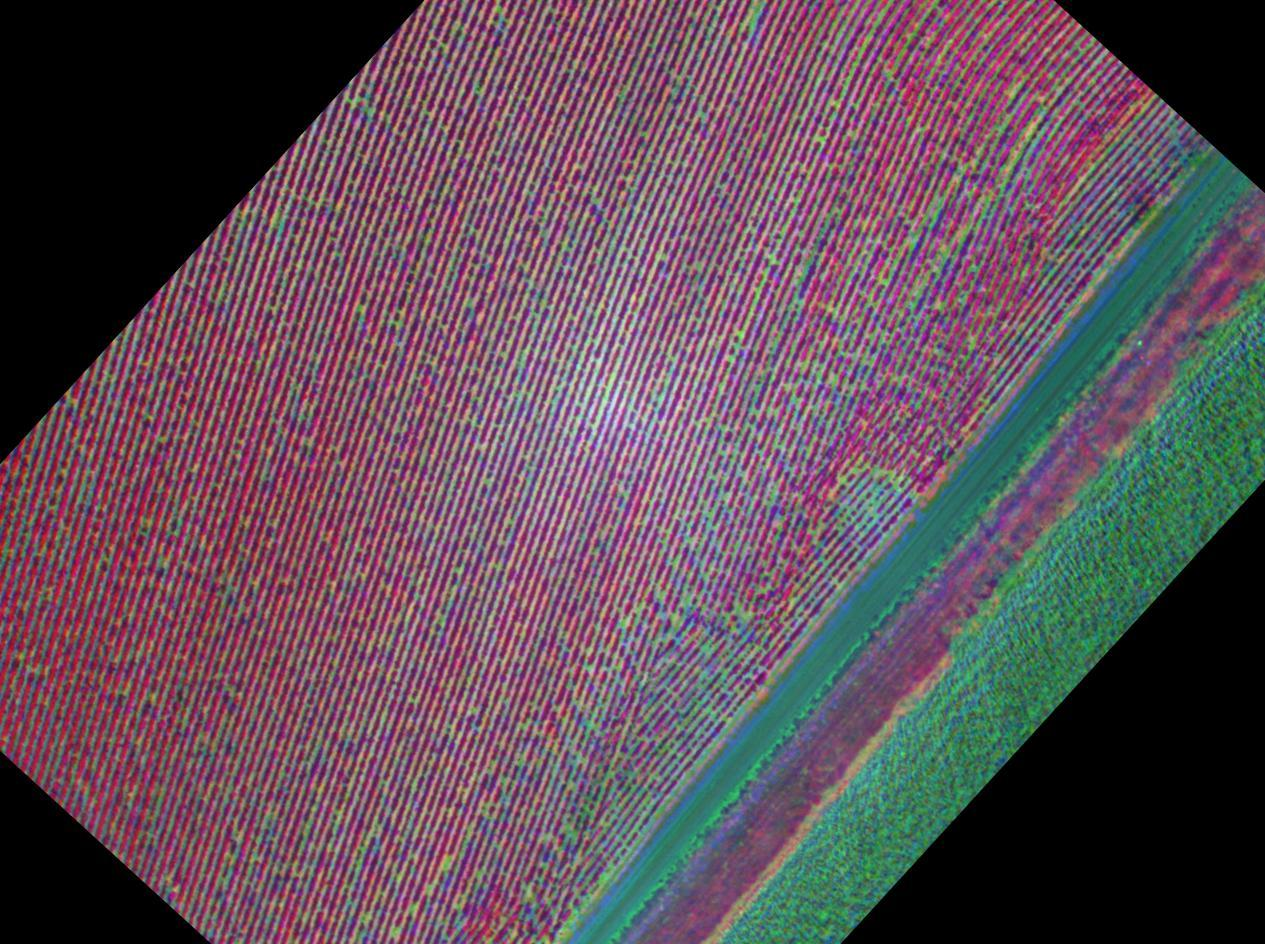dc: (752, 10, 759, 16), (352, 100, 357, 104), (657, 254, 662, 258), (884, 280, 888, 285), (738, 332, 743, 336), (873, 470, 877, 475), (589, 666, 593, 671), (527, 888, 531, 893), (781, 231, 785, 235), (912, 240, 916, 244), (910, 34, 914, 38), (661, 594, 665, 598), (736, 605, 740, 609), (397, 876, 401, 880), (821, 138, 824, 142), (983, 164, 986, 168), (607, 387, 611, 390), (20, 655, 24, 658), (233, 856, 237, 859), (1013, 91, 1016, 95), (544, 233, 546, 236), (96, 507, 99, 509)
